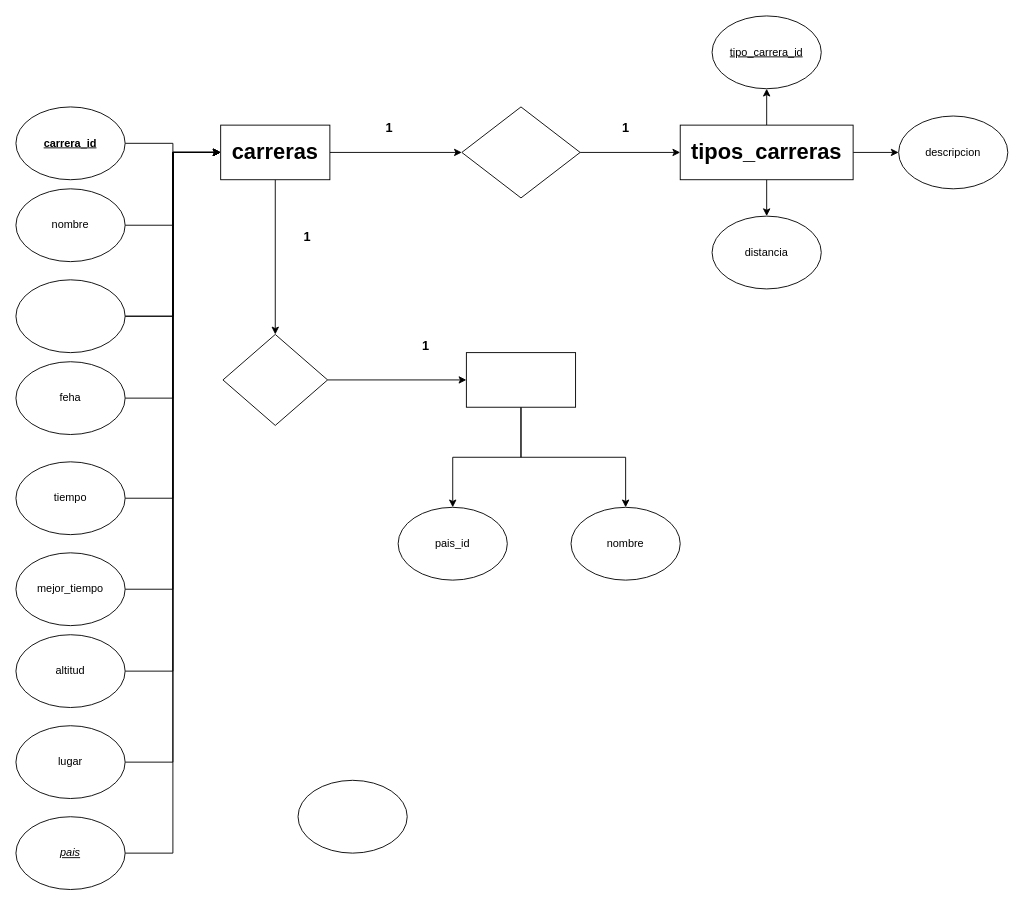
This 1024x905 diagram has some shape labels left out. The shapes that lost their labels are listed below. From the top down, each one's centre as x and y in pixels, then its label:
At point 520,152: "pertenece".
At point 70,316: "tipo_carrera".
At point 275,379: "se corre".
At point 520,379: "paises".
